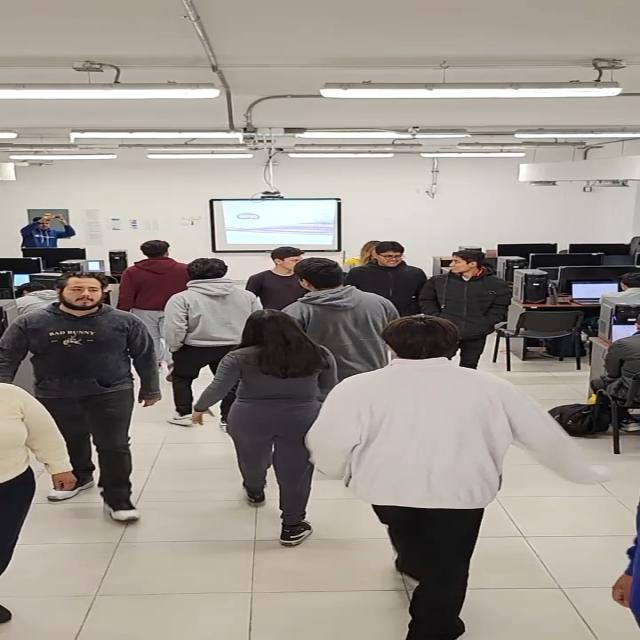Persona: (306, 314, 618, 640), (5, 269, 167, 532), (191, 308, 338, 549), (162, 251, 270, 444), (0, 381, 74, 640), (282, 259, 418, 396), (420, 239, 519, 379), (116, 239, 192, 331), (342, 234, 434, 309), (229, 245, 313, 301)
